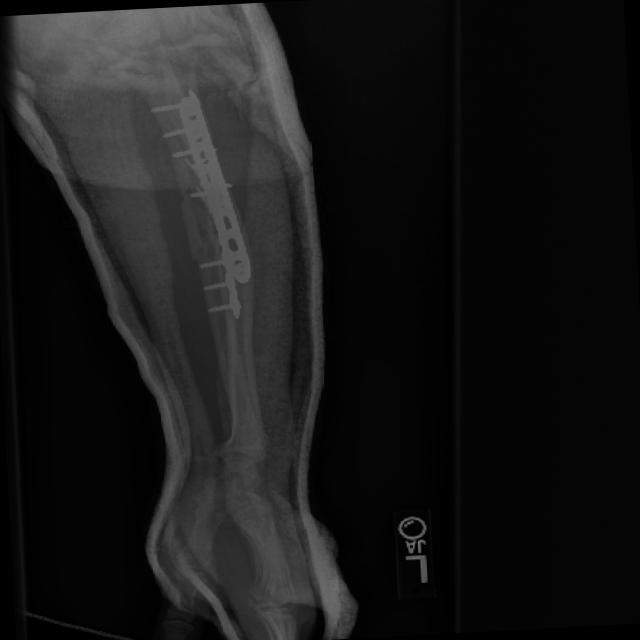forearm fracture: (154, 177, 237, 299)
